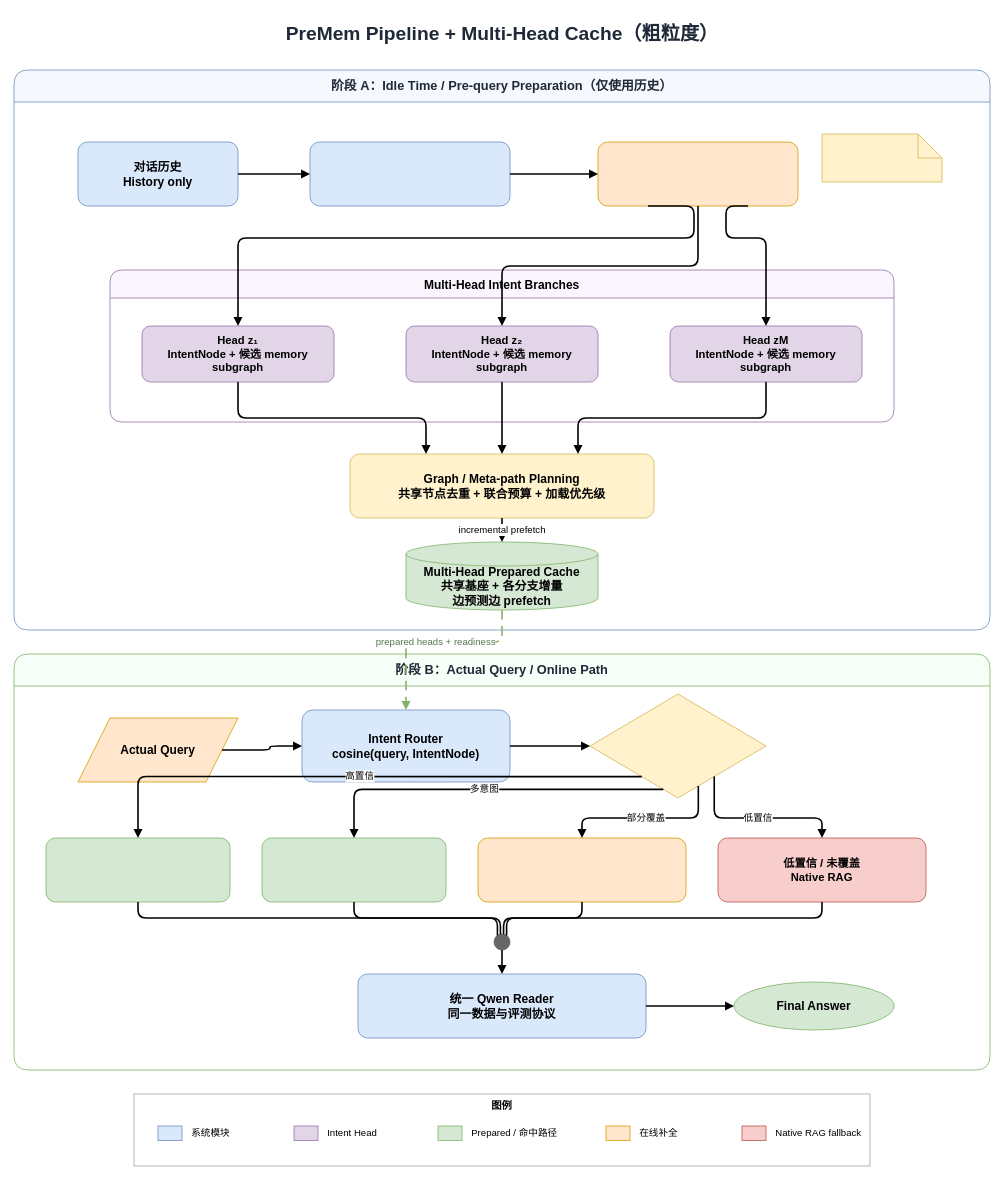
The diagram is 1004 pixels wide and 1180 high, and some of its shapes have lost their labels. The box of each missing label's shape, as (x1, y1, x2, y2) in pixels:
不使用 Actual Query: (821, 133, 942, 182)
多意图 Merge Heads: (261, 837, 446, 902)
构建 Memory Graph Memory / Entity / Time / Fact: (309, 141, 510, 206)
置信度与 prepared coverage 是否足够？: (589, 693, 766, 798)
部分覆盖 Prepared + Reactive Repair: (477, 837, 686, 902)
预测未来意图分布 p(z | history): (597, 141, 798, 206)
高置信 Single Head: (45, 837, 230, 902)
